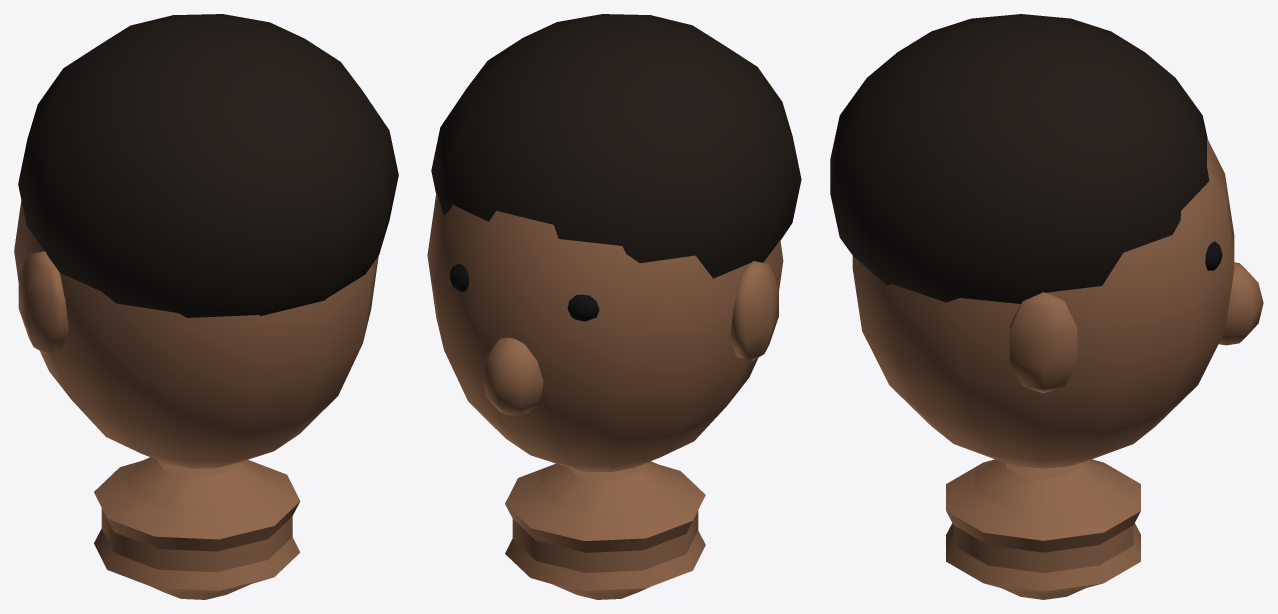
File: char_guard_head.obj
3 views of the same model, side by side, from view 1: azimuth 30°, elevation 25°; view 2: azimuth 150°, elevation 25°; view 3: azimuth 270°, elevation 25° (orthographic). The views are drawn at different scales.
Parts seen in each view (by area): view 1: char_guard_head; view 2: char_guard_head; view 3: char_guard_head.
Boxes of the visible parts, x1,y1,x2,y2 form: char_guard_head: [14, 14, 398, 599]; char_guard_head: [427, 14, 801, 599]; char_guard_head: [830, 14, 1263, 599].
Size of the model in its own units: 0.2088 by 0.33 by 0.2324.
